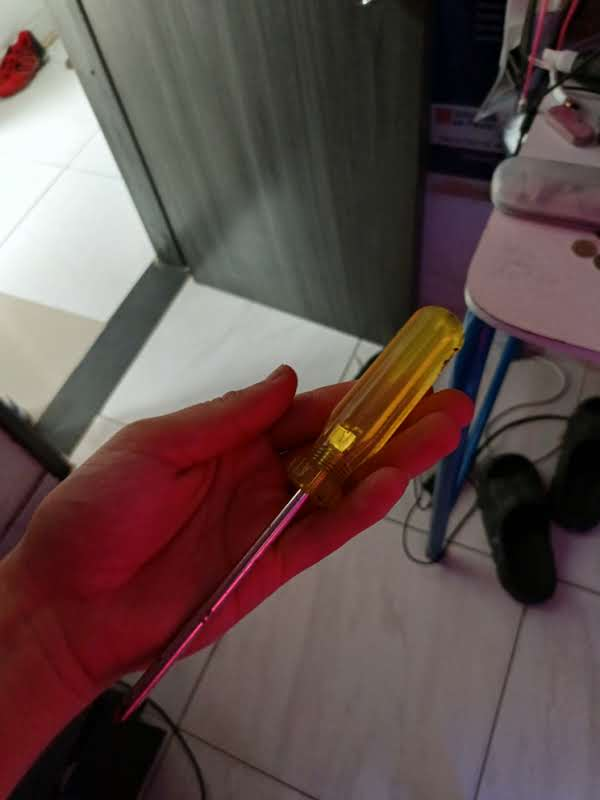Destornillador: (122, 307, 462, 719)
